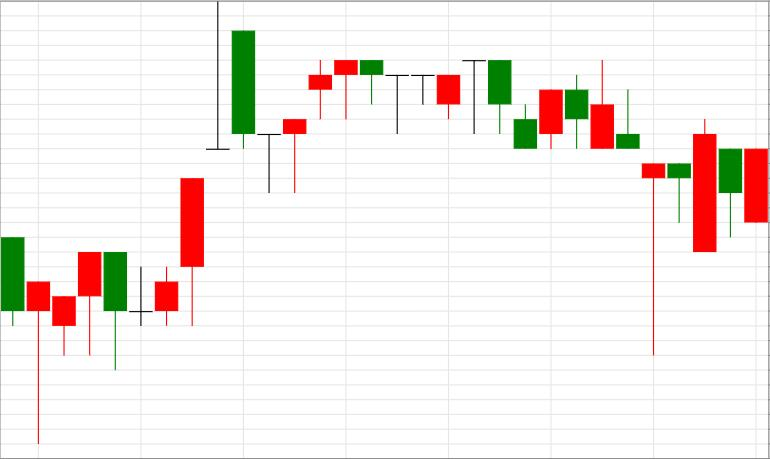bullish_engulfing_rise: (591, 61, 717, 356)
